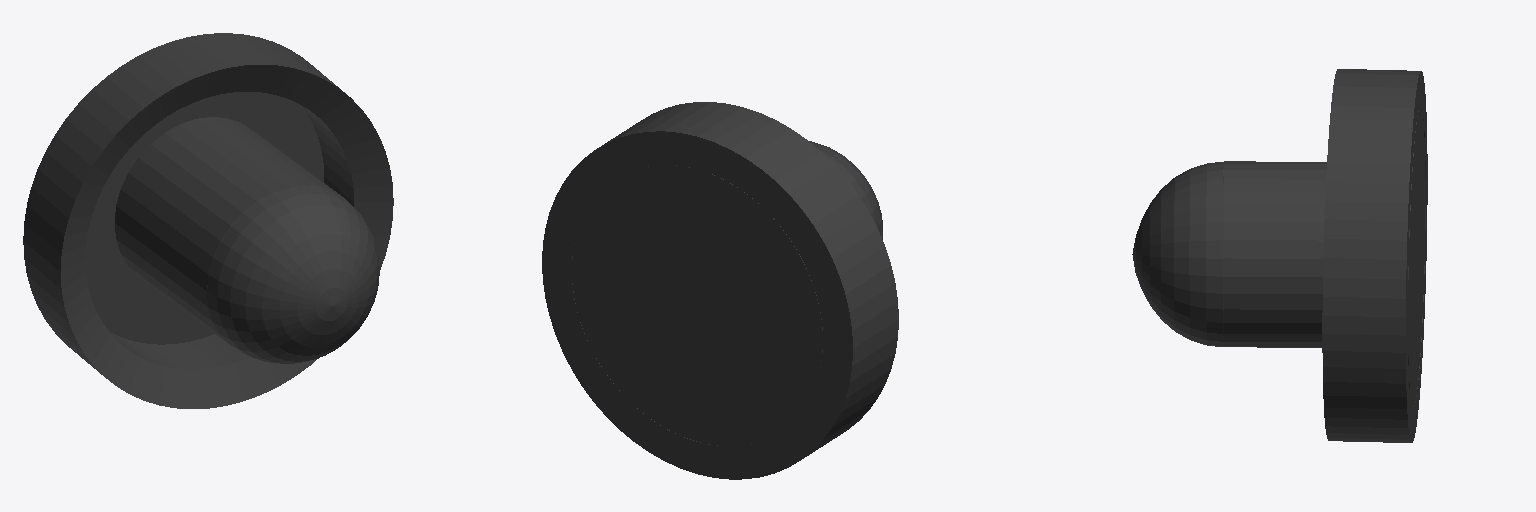
File: mailletL3.obj
The picture shows the model from 3 angles: view 1: azimuth 30°, elevation 25°; view 2: azimuth 150°, elevation 25°; view 3: azimuth 270°, elevation 25°; orthographic projection.
Parts seen in each view (by area): view 1: Cylinder.001; view 2: Cylinder.001; view 3: Cylinder.001.
Part boxes in pixels (x1,y1,x2,y2): Cylinder.001: (23, 33, 393, 408); Cylinder.001: (542, 102, 898, 479); Cylinder.001: (1132, 69, 1427, 442).
Bounding box in the file's own units: 3.82 × 3.78 × 3.